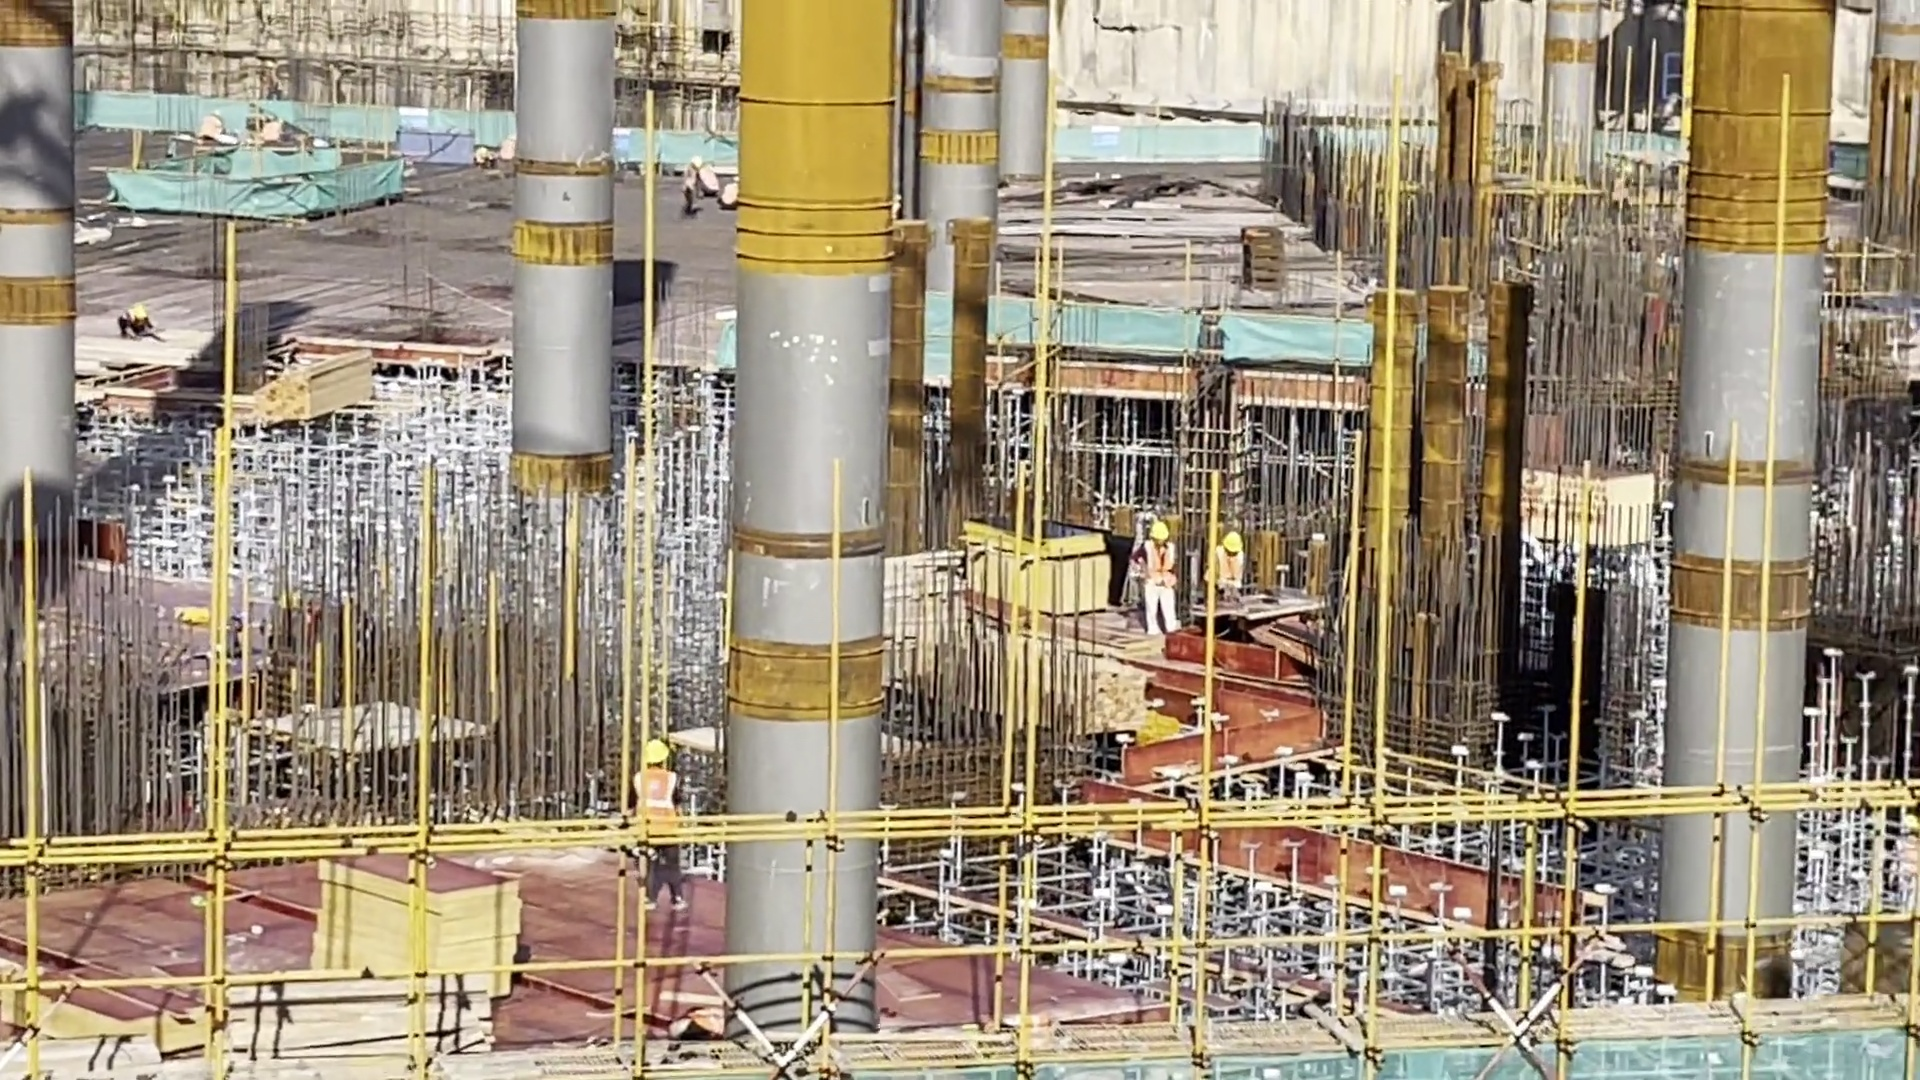helmet: (642, 732, 671, 776), (1148, 517, 1178, 549), (1219, 533, 1245, 556)
person: (620, 724, 703, 932), (1132, 514, 1190, 643), (1212, 524, 1261, 655), (102, 294, 173, 341), (678, 153, 701, 226), (499, 130, 527, 178), (723, 175, 747, 215), (704, 157, 717, 198)
vest: (635, 764, 677, 831), (1143, 541, 1178, 592), (1219, 545, 1246, 599)
